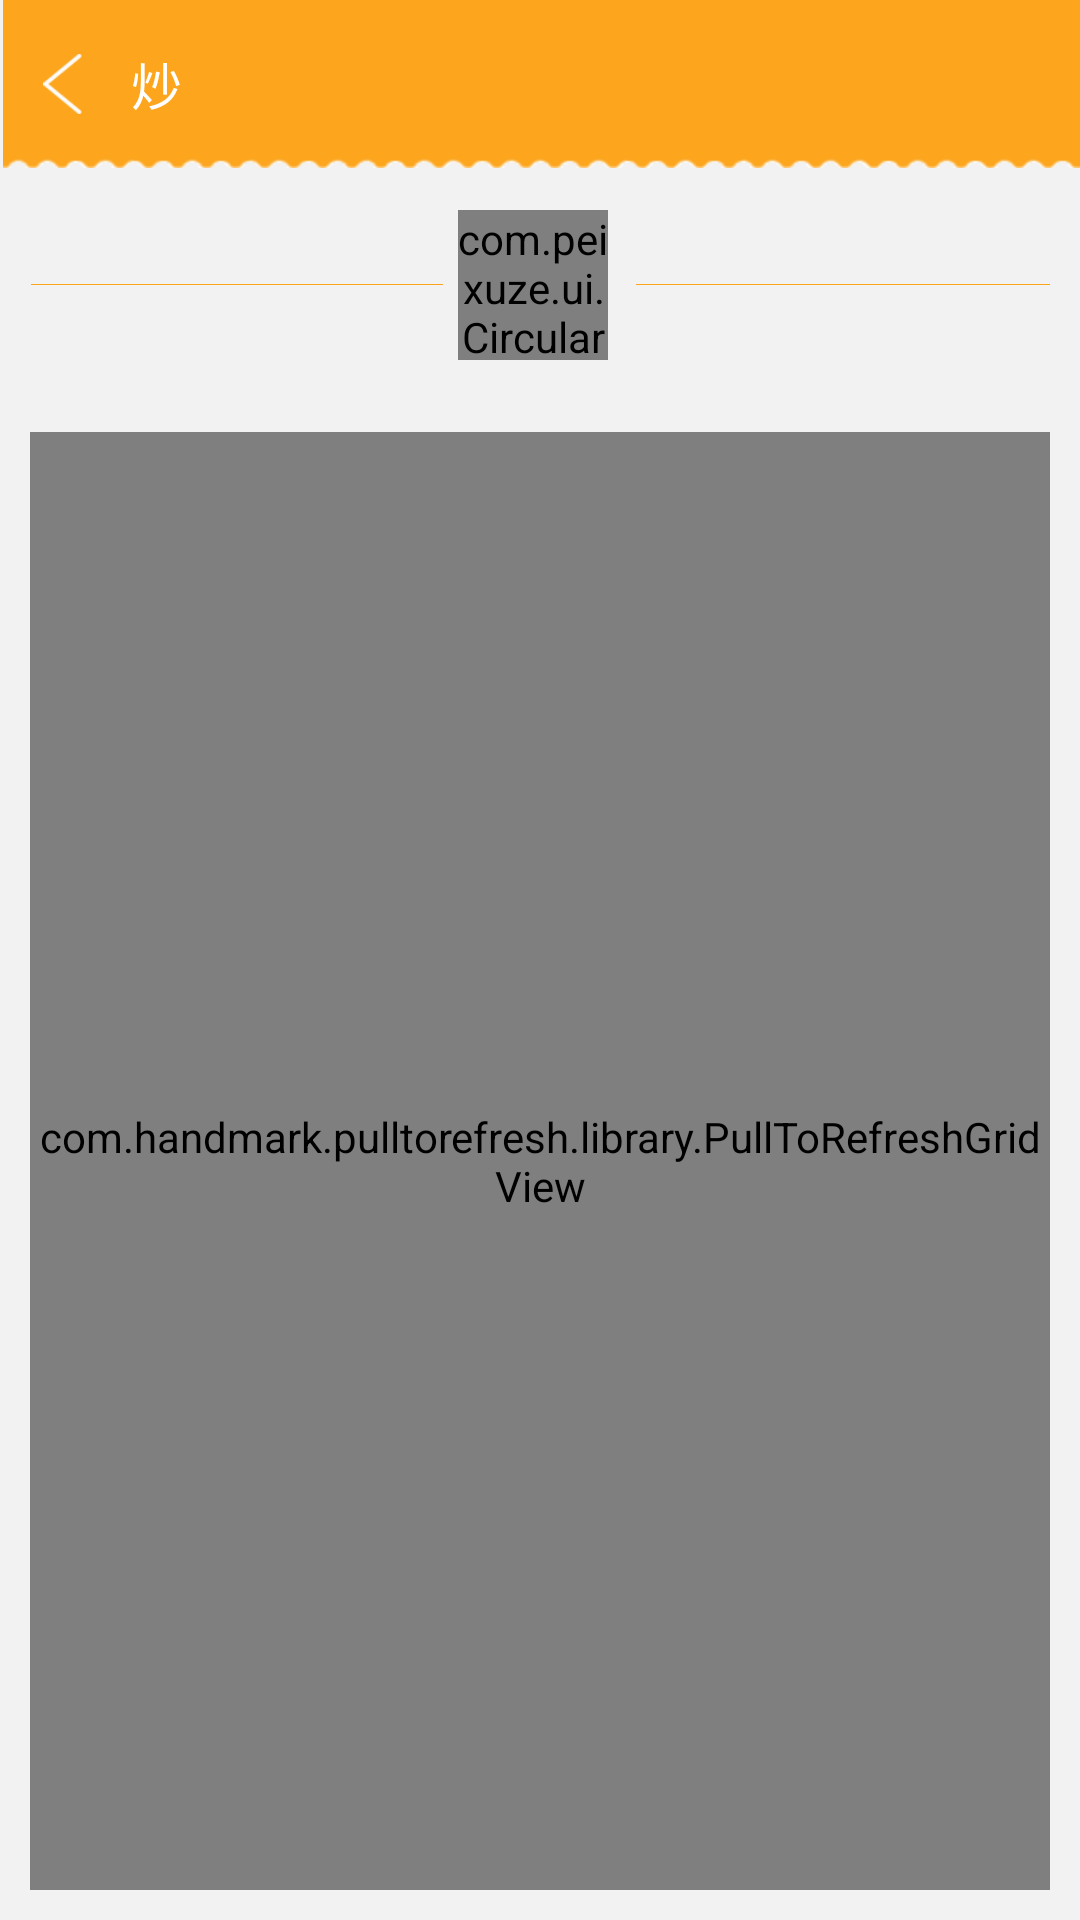

Locate icon controls on the screen. Image size 1080w x 1920h, boxes as (x1, y1, x2, y2).
imageview arrow back: (43, 54, 82, 114)
